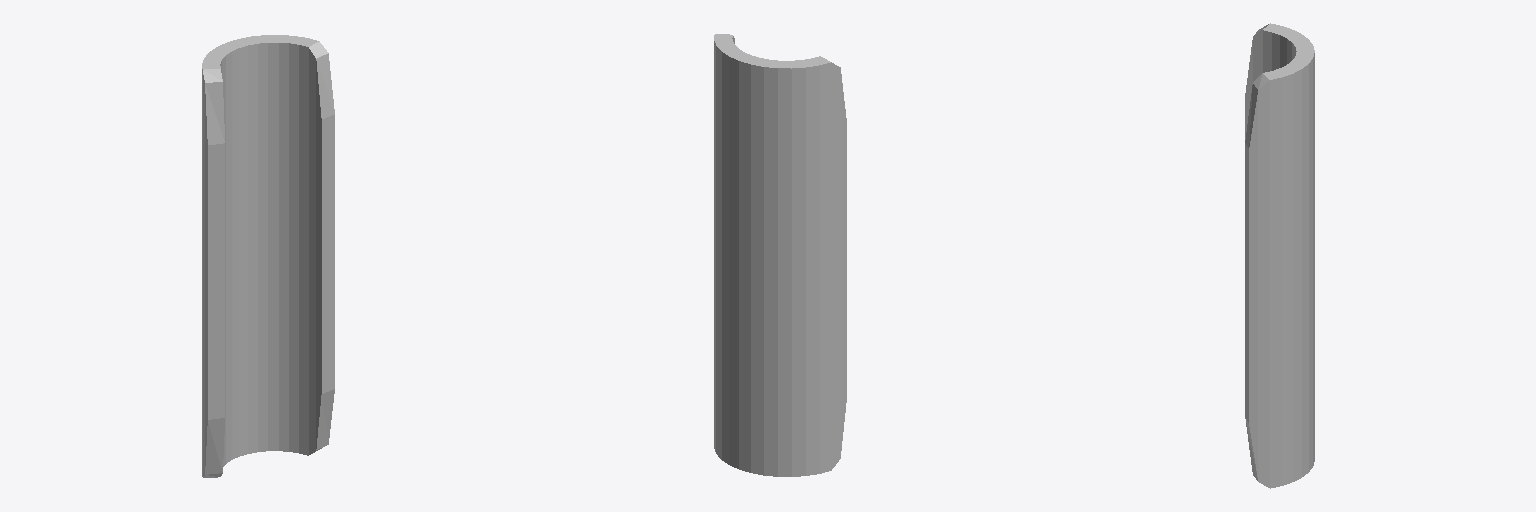
Rendered from power_meter_back.obj.
3 renders of one model, left to right at view 1: azimuth 30°, elevation 25°; view 2: azimuth 150°, elevation 25°; view 3: azimuth 270°, elevation 25°, orthographic.
Visible parts, largest first — view 1: PowerMeterBack; view 2: PowerMeterBack; view 3: PowerMeterBack.
Part boxes in pixels (x1,y1,x2,y2): PowerMeterBack: (202,35,334,477); PowerMeterBack: (714,34,846,476); PowerMeterBack: (1245,23,1314,488).
Size of the model in its own units: 2.61 by 8 by 1.24.